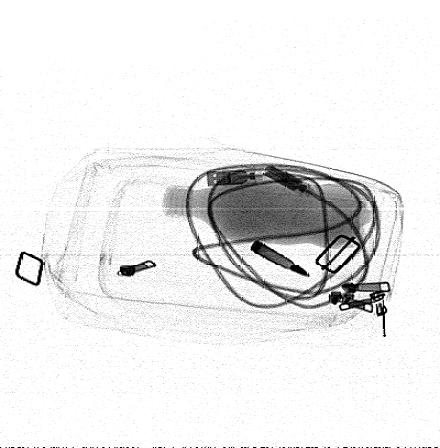Bullet: (248, 238, 314, 277)
